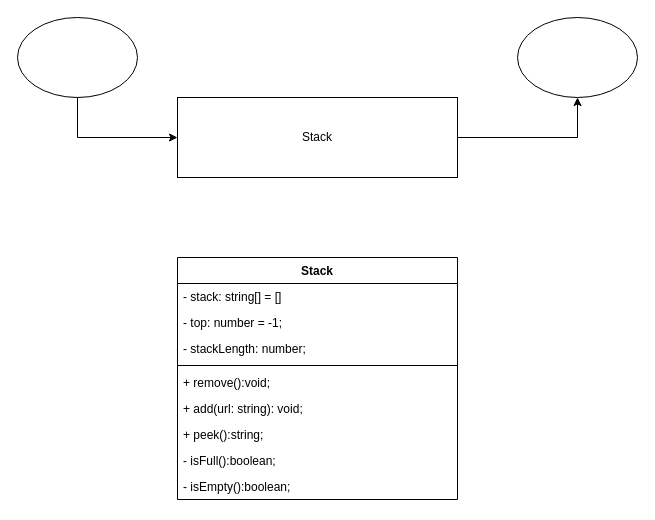
This 655x520 diagram has some shape labels left out. The centre of each missing label's shape, as x and y in pixels:
1,2,3..n: the point at 77,57
n...3,2,1: the point at 577,57
